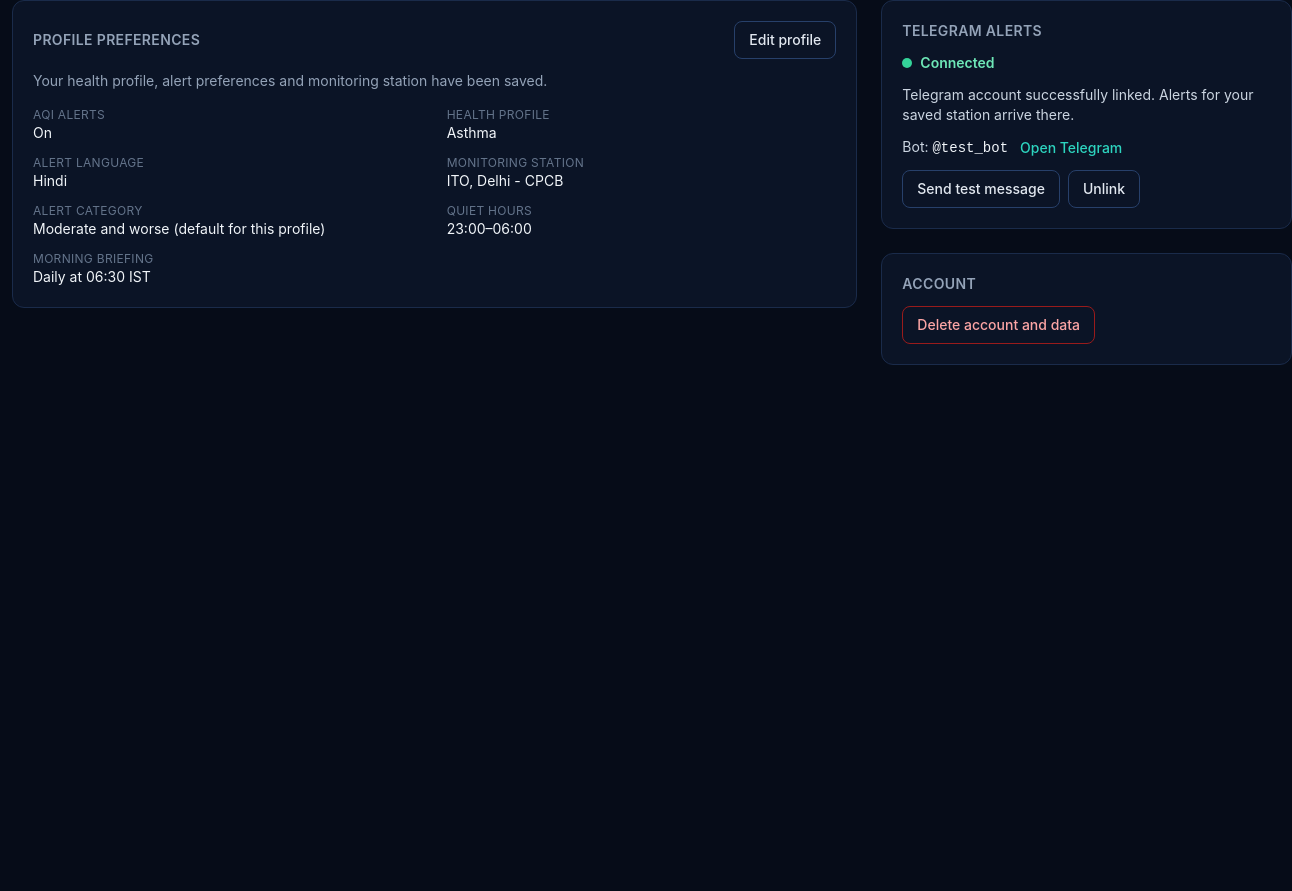
Profile page: collapsible saved settings › Edit profile expands the form with exactly the saved values
Click the button "Edit profile" at point(785, 40), box [734,21,836,59]
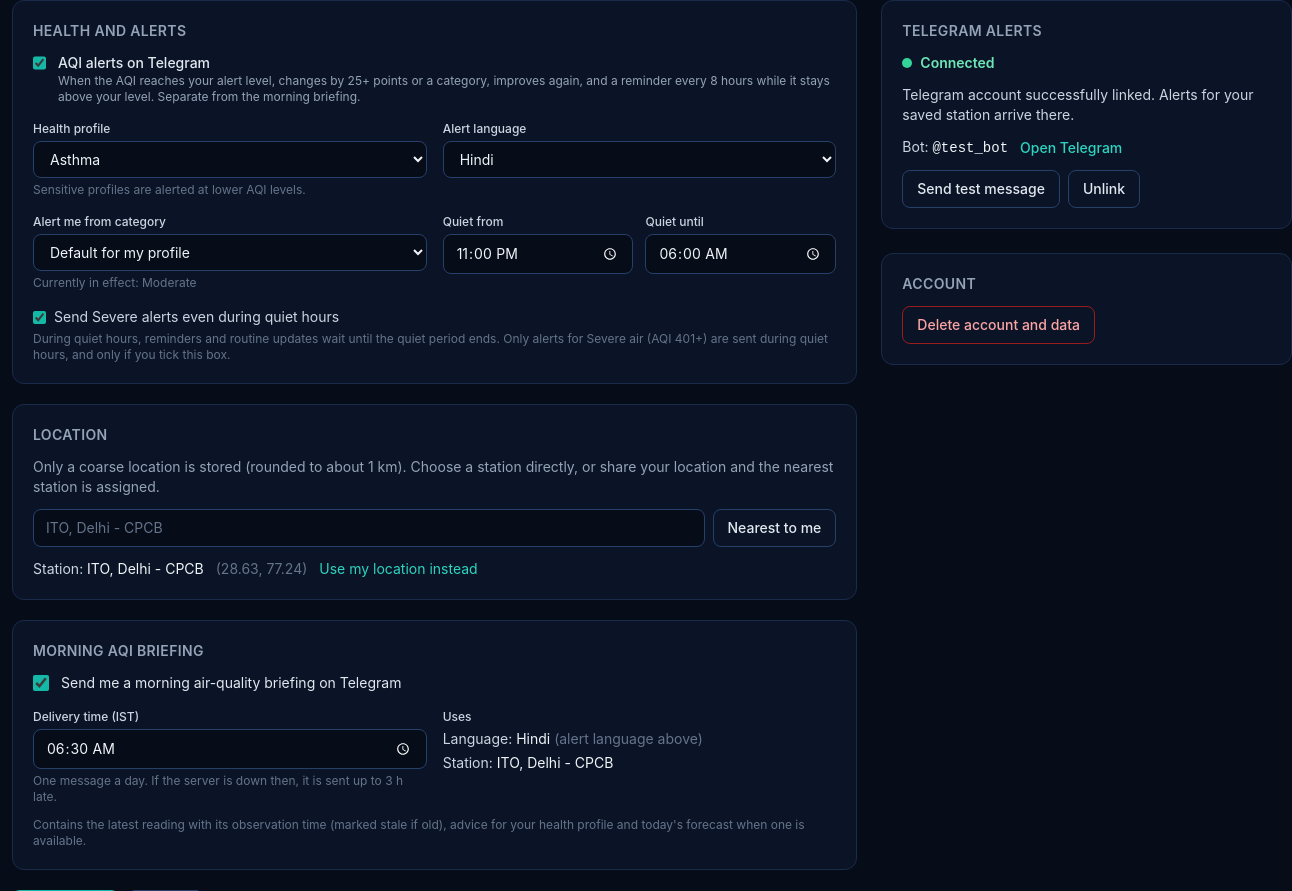
Result: the dropdown labelled "Health profile" shows "Asthma" at [33,141,427,178]
Result: the dropdown labelled "Alert language" shows "Hindi" at [443,141,836,178]
Result: the time field labelled "Quiet from" holds "23:00" at [443,234,634,274]
